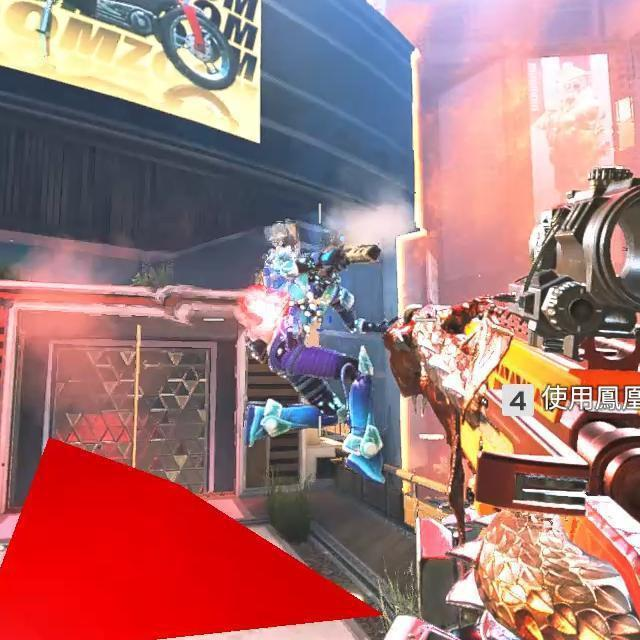avatar: (243, 241, 388, 486)
